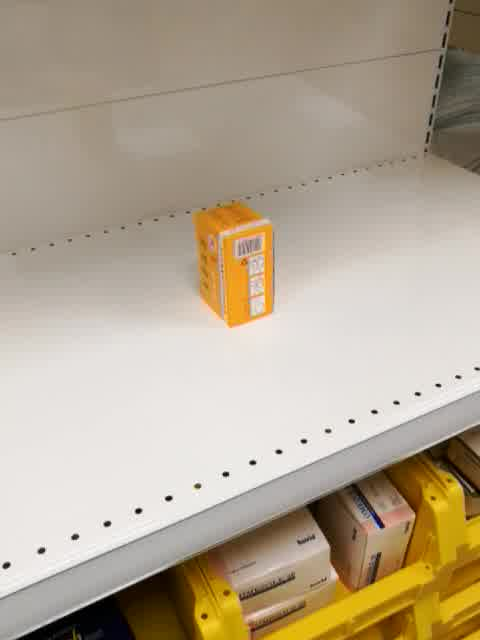jasminetea: (192, 202, 275, 329)
